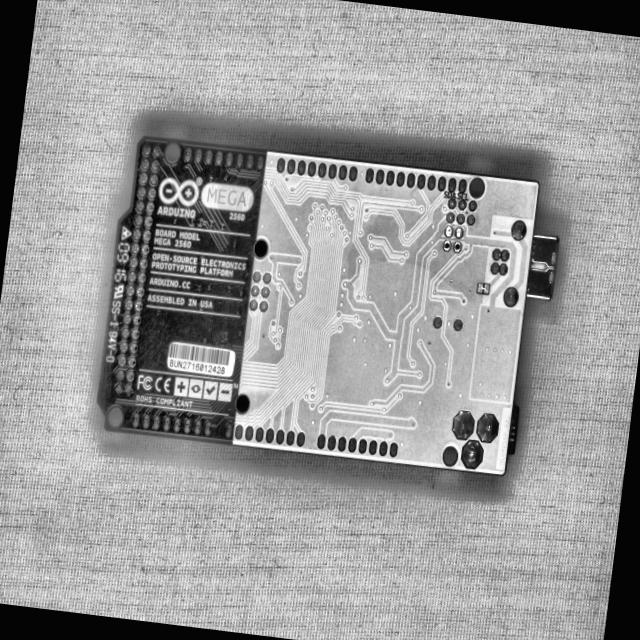PCB: (88, 126, 572, 486)
